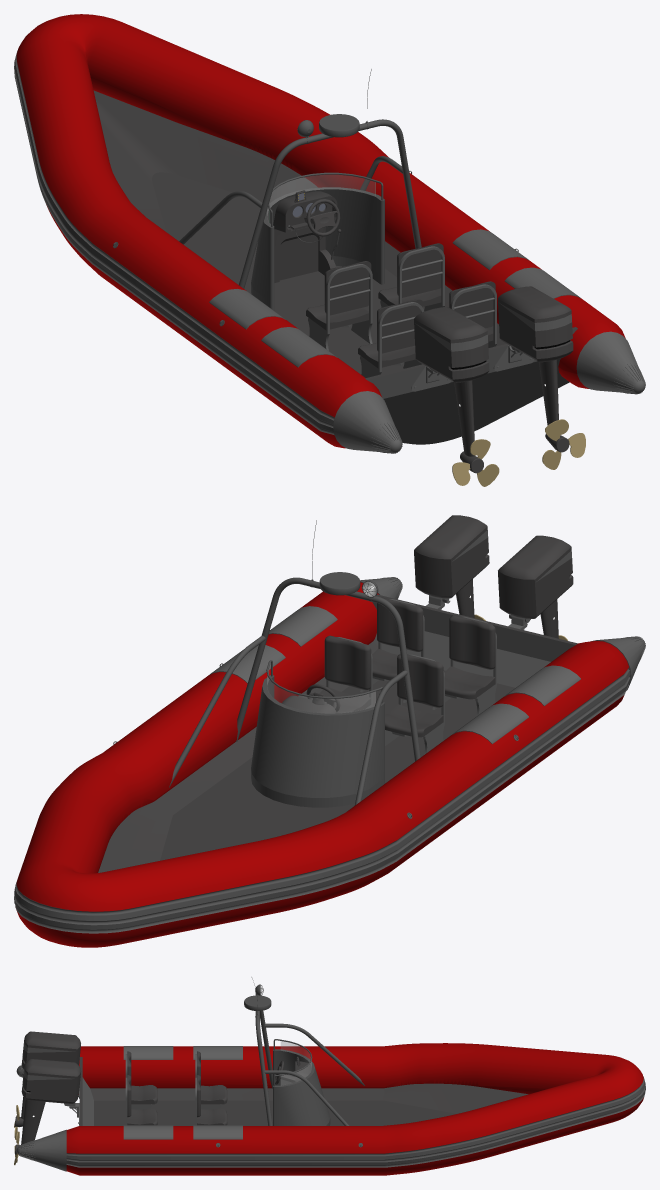
The model's file is zodiac_boat.glb.
The picture shows the model from 3 angles, top to bottom: view 1: azimuth 30°, elevation 25°; view 2: azimuth 150°, elevation 25°; view 3: azimuth 270°, elevation 25°; orthographic projection. The views are drawn at different scales.
Parts seen in each view (by area): view 1: Material3 (×4), Material2 (×2); view 2: Material3 (×3), Material2 (×2); view 3: Material3 (×3), Material2 (×2).
Part boxes in pixels (x1,y1,x2,y2): Material3 (×4): [16, 14, 645, 486]; Material2 (×2): [14, 51, 577, 444]; Material3 (×3): [16, 515, 645, 947]; Material2 (×2): [14, 572, 630, 933]; Material3 (×3): [15, 977, 643, 1175]; Material2 (×2): [66, 984, 645, 1167].
Size of what is drawn, in the model's own units: 155 by 141 by 413.
